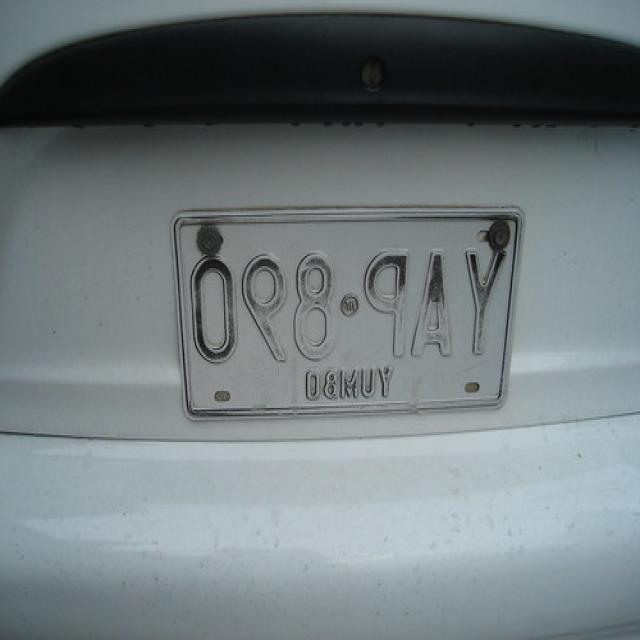placas: (175, 237, 506, 374)
